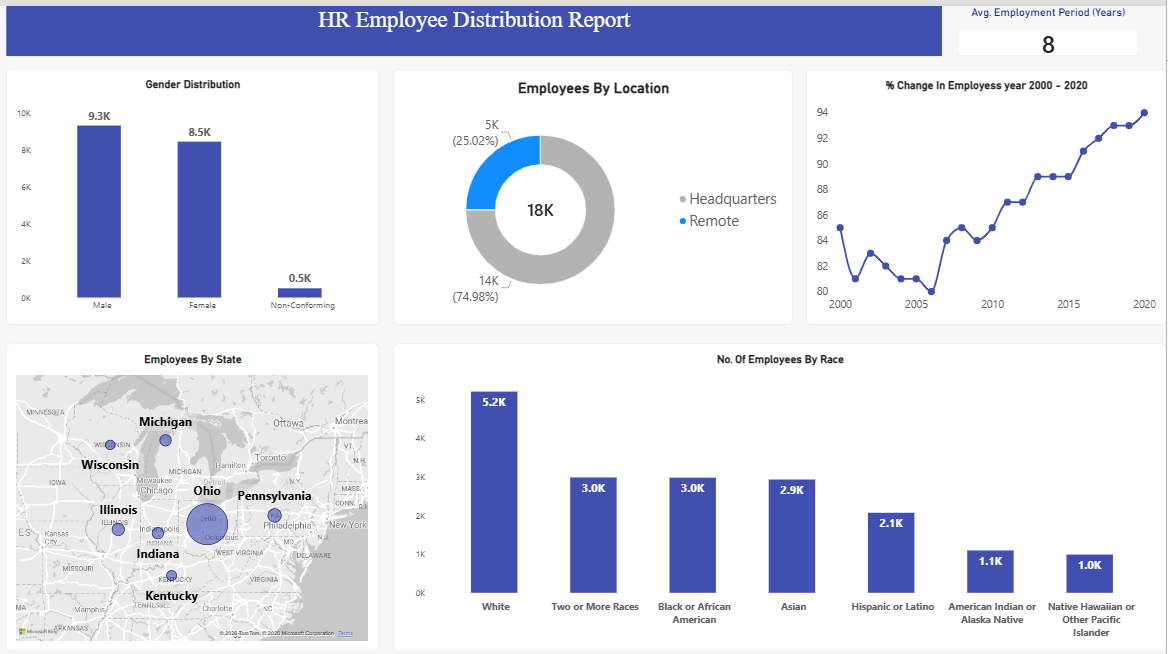

This screenshot's page, from the dashboard's own definition file:
{"tool":"powerbi","page":{"name":"Page 1","canvas":[1920,1080],"ordinal":0},"visuals":[{"type":"textbox","box":[10.7,0,1541.1,82.1],"z":0},{"type":"cardVisual","title":"Avg. Employment Period (Years)","fields":{"Data":["Sum(Avg employment period.avg_employment_period)"]},"box":[1576.8,0,298.2,82.1],"z":1000},{"type":"columnChart","title":"Gender Distribution","fields":{"Category":["No  of employees by gender.gender"],"Y":["Sum(No  of employees by gender.count)"]},"box":[10.3,102.9,613.4,422],"z":2000},{"type":"donutChart","title":"Employees By Location","fields":{"Category":["Employees work location.location"],"Y":["Sum(Employees work location.total_employees)"]},"box":[648.4,105,656.6,419.9],"z":3000},{"type":"lineChart","title":"% Change In Employess year 2000 - 2020","fields":{"Category":["Employee count based on hire and term date.year"],"Y":["Sum(Employee count based on hire and term date.net_change_percent)"]},"box":[1327.6,105,592.8,419.9],"z":4000},{"type":"map","title":"Employees By State","fields":{"Category":["Distribution of employess across location.location_state"],"Size":["Sum(Distribution of employess across location.count)"]},"box":[10.3,555.7,613.4,506.3],"z":5000},{"type":"clusteredColumnChart","title":"No. Of Employees By Race","fields":{"Category":["Race ethnicity of employees.race"],"Y":["Sum(Race ethnicity of employees.count)"]},"box":[648.4,555.7,1272,506.3],"z":6000}]}

Visuals, with their boxes in screenshot pixels (x1, y1, x2, y2), scaled from the page's 1920x1080 canvas onto the 1168x654 screenshot:
textbox: rect(7, 0, 944, 50)
"Avg. Employment Period (Years)" cardVisual: rect(959, 0, 1141, 50)
"Gender Distribution" columnChart: rect(6, 62, 379, 318)
"Employees By Location" donutChart: rect(394, 64, 794, 318)
"% Change In Employess year 2000 - 2020" lineChart: rect(808, 64, 1167, 318)
"Employees By State" map: rect(6, 337, 379, 643)
"No. Of Employees By Race" clusteredColumnChart: rect(394, 337, 1167, 643)
